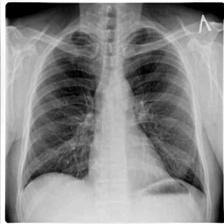tuberculosis: (13, 18, 214, 223)
